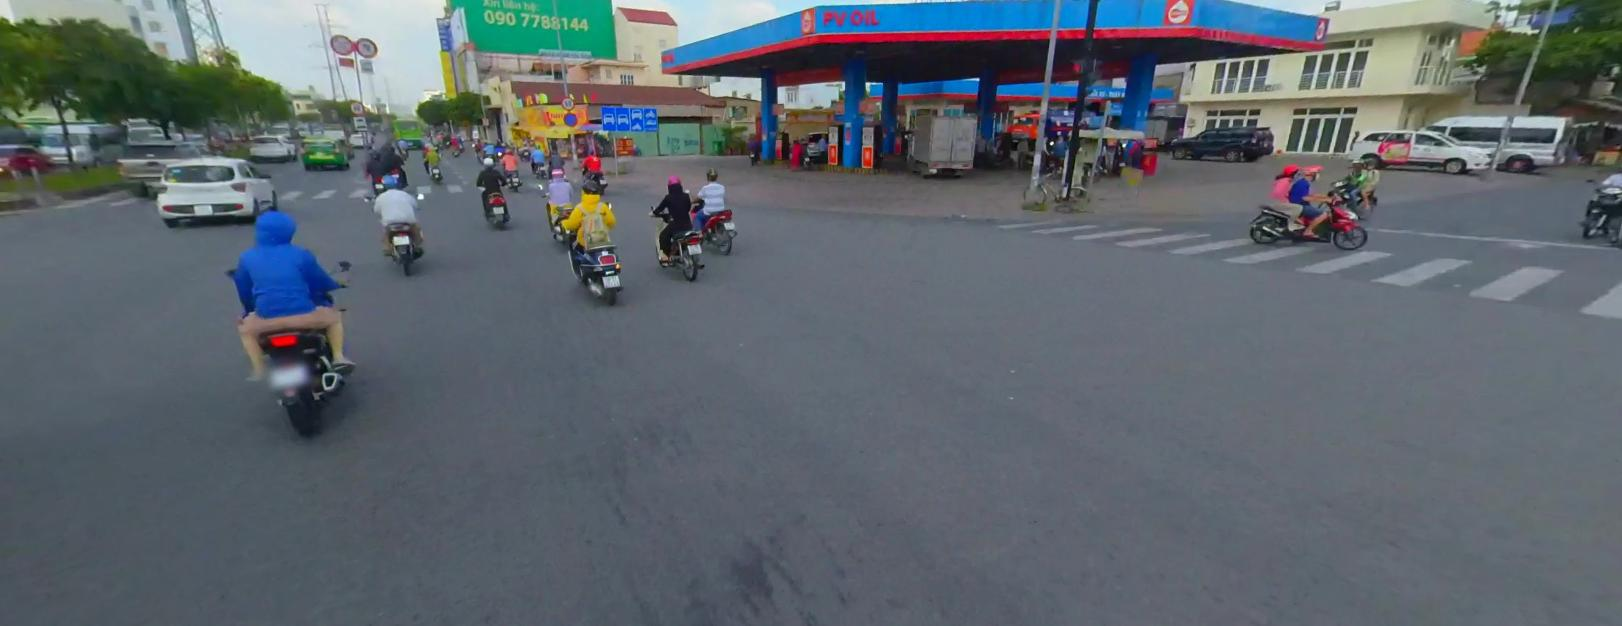Cam con lai: (330, 33, 353, 53), (355, 37, 377, 56)
Cam dung va do: (564, 111, 577, 125)
Gioi han toc do: (349, 101, 364, 115), (561, 96, 575, 109)
